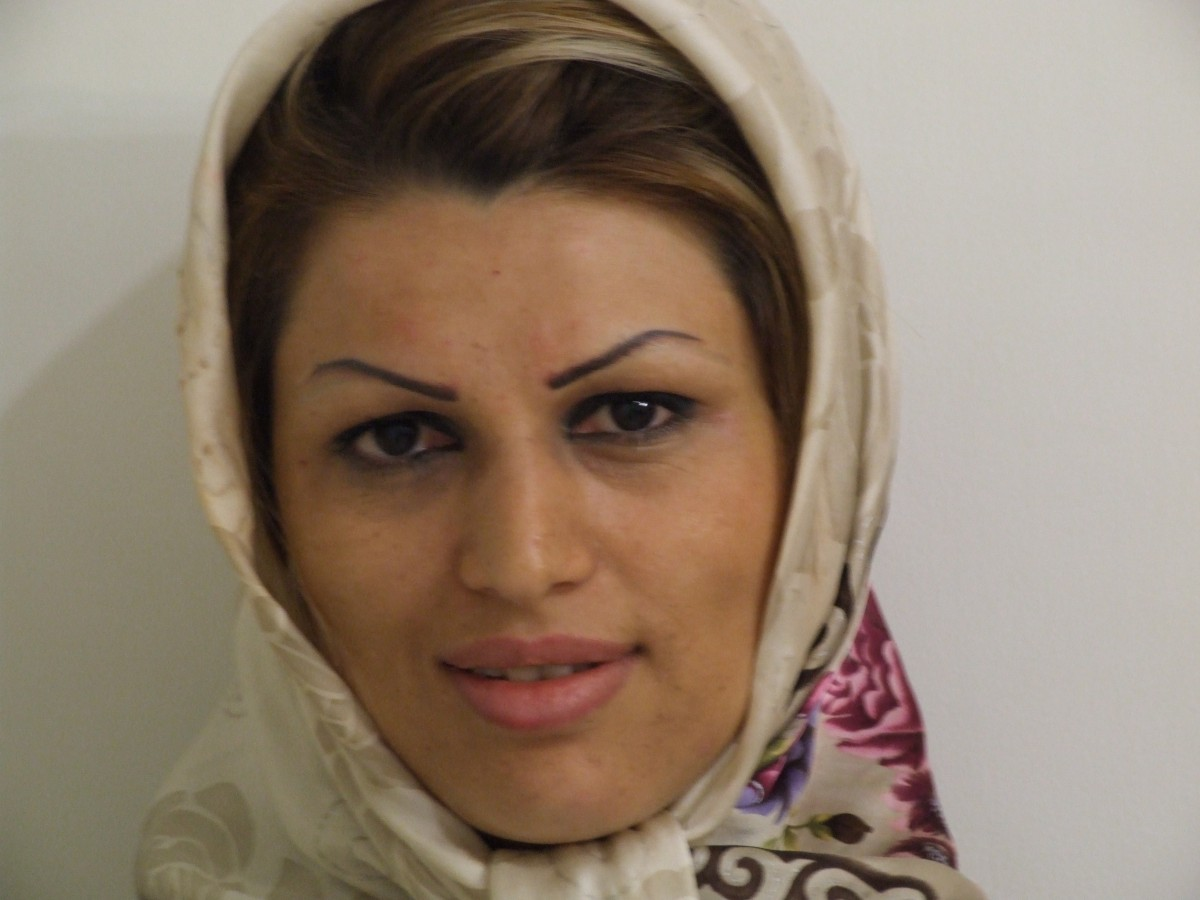neo: (457, 326, 493, 368), (478, 258, 512, 289), (709, 679, 736, 704)
occhiaia: (298, 456, 476, 527), (550, 432, 720, 499)
